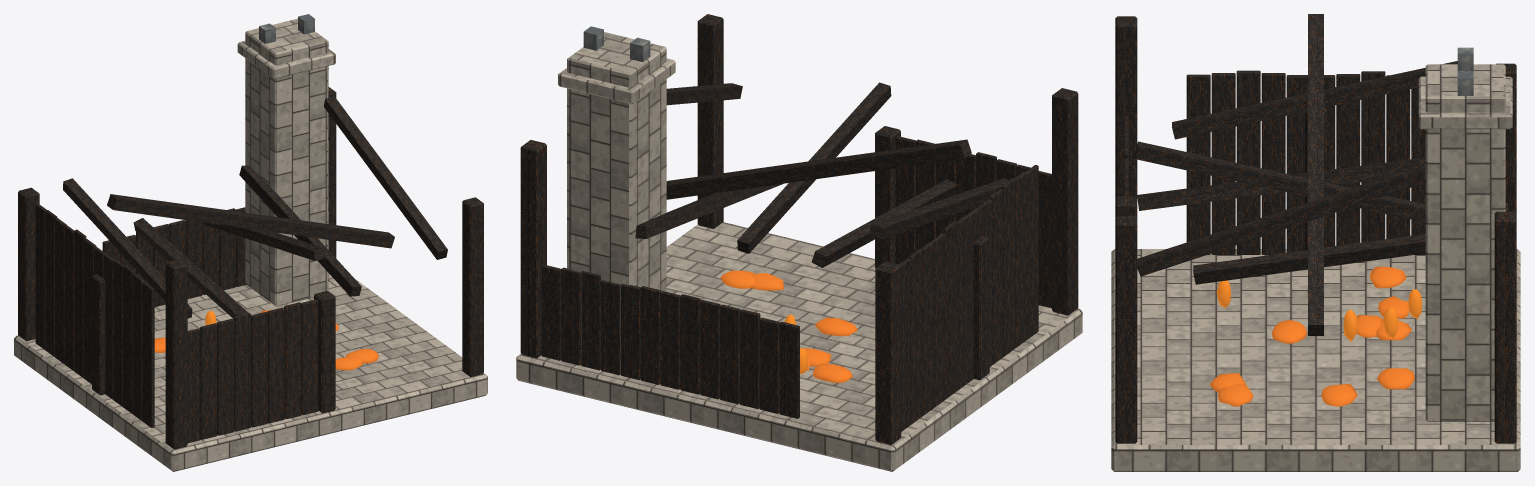
The model's file is burnt_house.glb.
The picture shows the model from 3 angles, left to right: view 1: azimuth 30°, elevation 25°; view 2: azimuth 150°, elevation 25°; view 3: azimuth 270°, elevation 25°; orthographic projection. The views are drawn at different scales.
Visible parts, largest first — view 1: burnt_house_walls, burnt_house_rafters, burnt_house_embers; view 2: burnt_house_walls, burnt_house_rafters, burnt_house_embers; view 3: burnt_house_walls, burnt_house_rafters, burnt_house_embers.
Boxes of the visible parts, x1,y1,x2,y2 form: burnt_house_walls: (14, 14, 487, 471); burnt_house_rafters: (63, 96, 447, 318); burnt_house_embers: (154, 310, 378, 370); burnt_house_walls: (516, 14, 1082, 471); burnt_house_rafters: (635, 82, 1008, 267); burnt_house_embers: (720, 270, 857, 382); burnt_house_walls: (1111, 16, 1520, 471); burnt_house_rafters: (1135, 14, 1457, 335); burnt_house_embers: (1209, 266, 1421, 406).
Size of what is drawn, in the model's own units: 4.7 by 4.09 by 4.1.
Materials: 5 (5 with a texture image).
